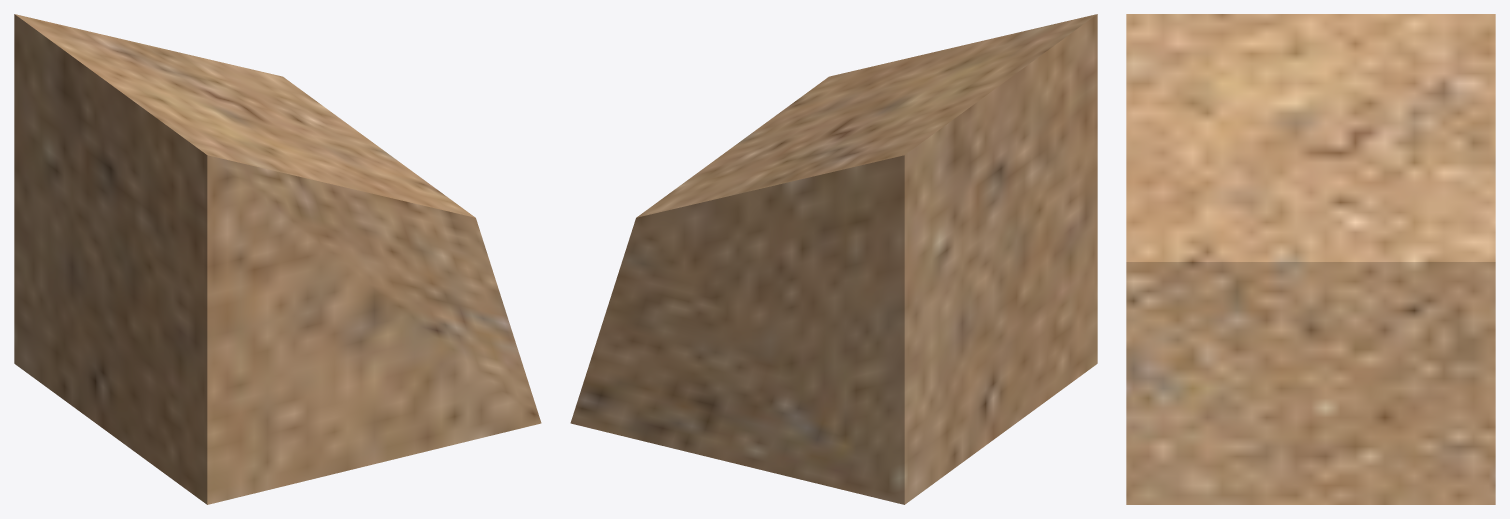
The model's file is sand_block.glb.
3 renders of one model, left to right at view 1: azimuth 30°, elevation 25°; view 2: azimuth 150°, elevation 25°; view 3: azimuth 270°, elevation 25°, orthographic. The views are drawn at different scales.
Visible parts, largest first — view 1: Cube; view 2: Cube; view 3: Cube.
Part boxes in pixels (x1,y1,x2,y2): Cube: [14, 14, 541, 504]; Cube: [570, 14, 1097, 504]; Cube: [1126, 14, 1495, 504].
Bounding box in the file's own units: 2 × 2 × 2.
Materials: 1 (1 with a texture image).
